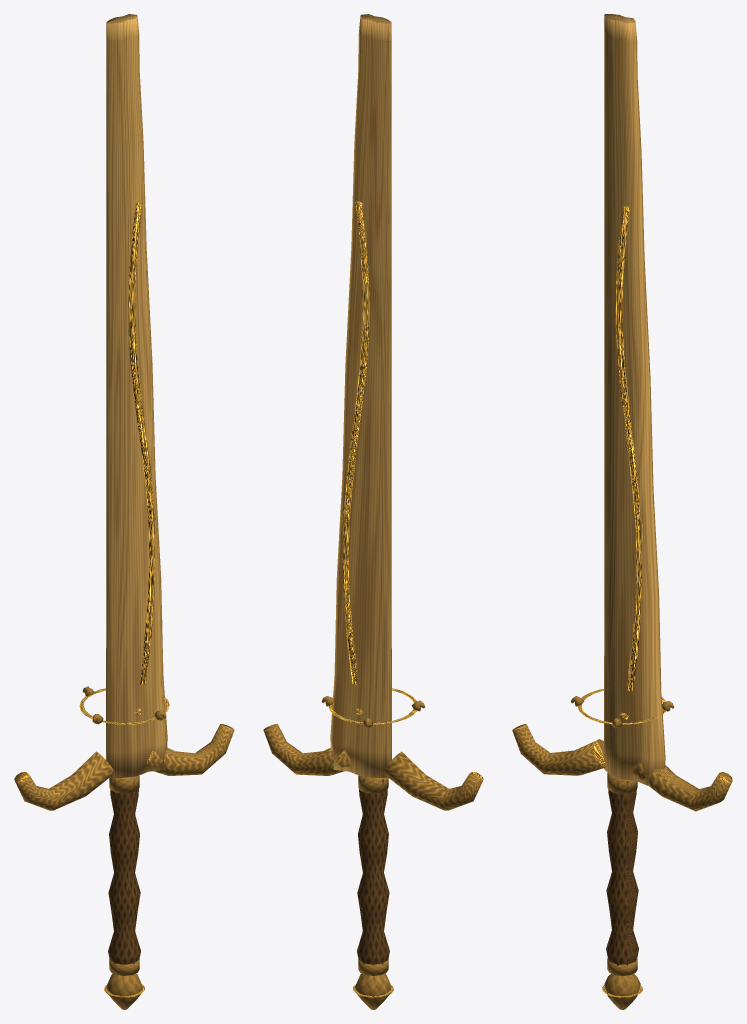
File: sword_03_amber_sanctuary.glb
3 renders of one model, left to right at view 1: azimuth 30°, elevation 25°; view 2: azimuth 150°, elevation 25°; view 3: azimuth 330°, elevation 25°, orthographic.
Visible parts, largest first — view 1: Blade_AmberSanctuaryClaymore, Grip_ResinWrappedHilt, Guard_SanctuaryWings, Inlay_AmberResinWindows, Pommel_AmberOrb, Ferrule_GildedBronze, Halo_SanctuaryRing; view 2: Blade_AmberSanctuaryClaymore, Grip_ResinWrappedHilt, Guard_SanctuaryWings, Inlay_AmberResinWindows, Pommel_AmberOrb, Ferrule_GildedBronze, Halo_SanctuaryRing; view 3: Blade_AmberSanctuaryClaymore, Grip_ResinWrappedHilt, Guard_SanctuaryWings, Inlay_AmberResinWindows, Pommel_AmberOrb, Ferrule_GildedBronze, Halo_SanctuaryRing.
Boxes of the visible parts, x1,y1,x2,y2 form: Blade_AmberSanctuaryClaymore: (106, 14, 167, 777); Grip_ResinWrappedHilt: (108, 775, 140, 964); Guard_SanctuaryWings: (14, 724, 234, 810); Inlay_AmberResinWindows: (128, 201, 155, 684); Pommel_AmberOrb: (104, 973, 144, 1009); Ferrule_GildedBronze: (109, 775, 139, 975); Halo_SanctuaryRing: (79, 686, 169, 724); Blade_AmberSanctuaryClaymore: (330, 14, 391, 777); Grip_ResinWrappedHilt: (357, 775, 389, 964); Guard_SanctuaryWings: (263, 724, 483, 810); Inlay_AmberResinWindows: (342, 201, 369, 684); Pommel_AmberOrb: (353, 973, 393, 1009); Ferrule_GildedBronze: (358, 775, 388, 975); Halo_SanctuaryRing: (321, 688, 424, 727); Blade_AmberSanctuaryClaymore: (604, 14, 665, 785); Grip_ResinWrappedHilt: (606, 780, 638, 965); Guard_SanctuaryWings: (512, 724, 732, 811); Inlay_AmberResinWindows: (615, 206, 643, 691); Pommel_AmberOrb: (602, 973, 642, 1009); Ferrule_GildedBronze: (607, 772, 637, 975); Halo_SanctuaryRing: (571, 689, 674, 728).
Size of the model in its own units: 0.5989 by 2.6 by 0.2296.
Materials: 1 (1 with a texture image).
